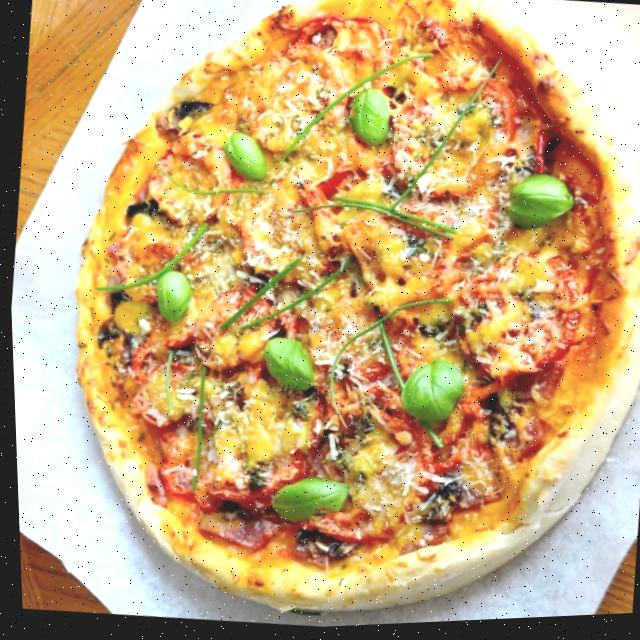basil: (388, 355, 470, 428), (258, 472, 351, 529), (498, 170, 577, 237), (254, 337, 316, 395), (146, 264, 190, 331), (219, 130, 268, 183), (346, 88, 390, 147)
pizza: (32, 0, 640, 639)
